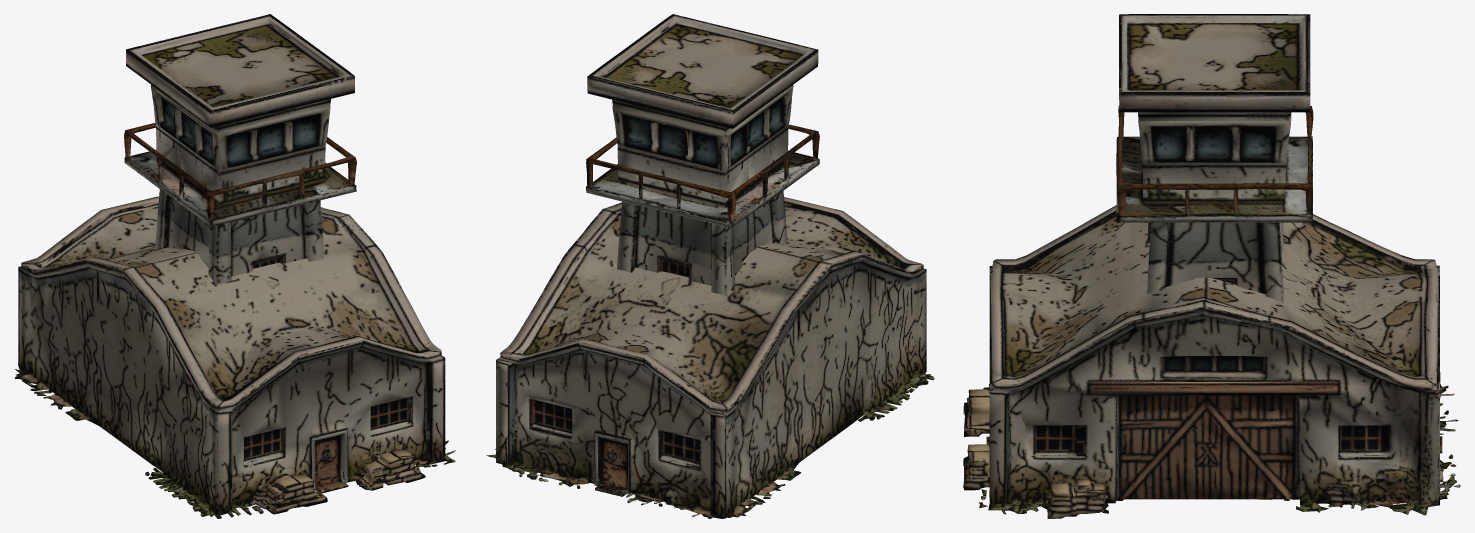
File: wachttower hangar.fbx
The picture shows the model from 3 angles, left to right: view 1: azimuth 30°, elevation 25°; view 2: azimuth 150°, elevation 25°; view 3: azimuth 270°, elevation 25°; orthographic projection. The views are drawn at different scales.
Visible parts, largest first — view 1: tripo_node_b05b681b.001, tripo_node_b05b681b; view 2: tripo_node_b05b681b.001, tripo_node_b05b681b; view 3: tripo_node_b05b681b.001, tripo_node_b05b681b.
Boxes of the visible parts, x1,y1,x2,y2 form: tripo_node_b05b681b.001: (14, 196, 455, 518); tripo_node_b05b681b: (124, 14, 356, 284); tripo_node_b05b681b.001: (486, 197, 934, 518); tripo_node_b05b681b: (586, 14, 819, 295); tripo_node_b05b681b.001: (963, 205, 1460, 518); tripo_node_b05b681b: (1116, 14, 1313, 303).
Size of the model in its own units: 45.01 by 57.81 by 65.34.
